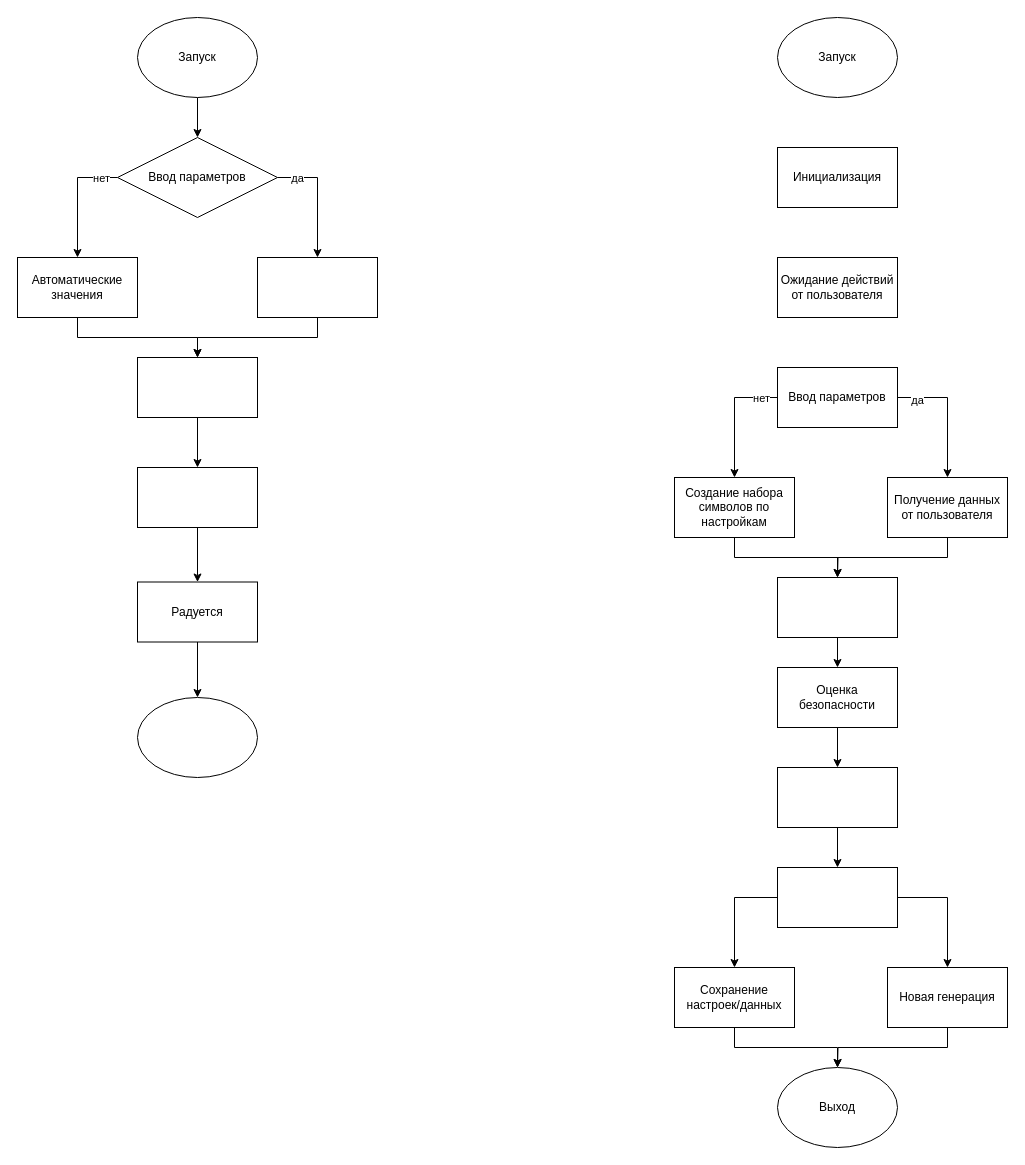
Some shapes in this 1025 by 1165 pixel diagram are drawn without their labels. Here are the shapes that lost their labels. From the top down, the centre of each, then its label:
(x=317, y=287): Параметры, которые выбрал пользователь
(x=197, y=387): Генерирует пароль, пока не найдет самый красивый и безопасный
(x=197, y=497): Видит что пароль надежный, благодоря встроенному оценщику
(x=837, y=607): Анализ пароля
(x=197, y=737): Конец
(x=837, y=797): Формирование результата: пароль, оценка, индикатор сложности
(x=837, y=897): Вывод результата пользователю в GUI интерфейсе
